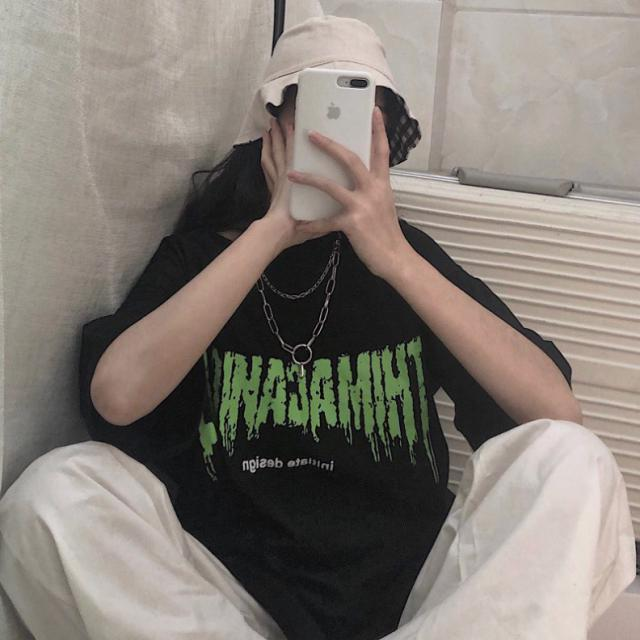short sleeve shirt: (75, 213, 575, 640)
trousers: (0, 418, 639, 639)
